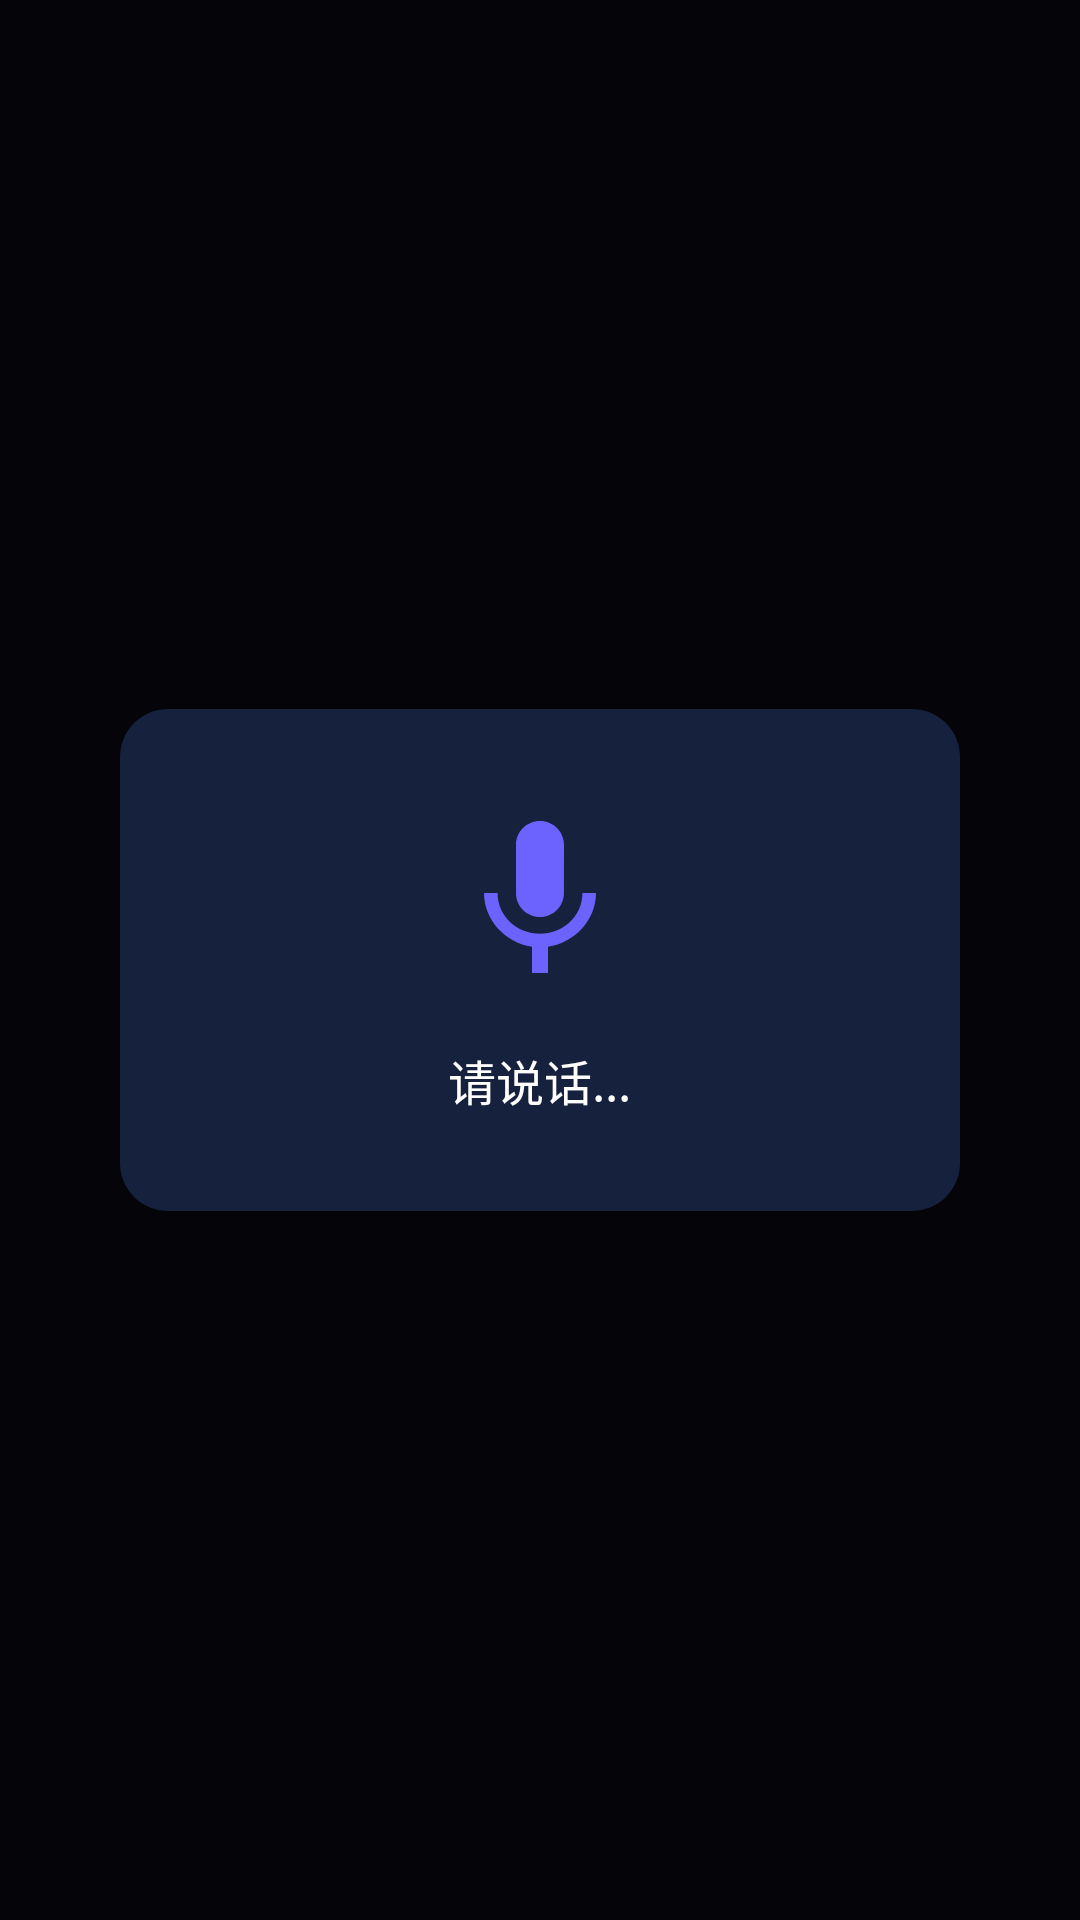

Named icons in this screenshot (1080px x 1920px) and their centers, (x=x, y=y):
mic: (x=540, y=897)
